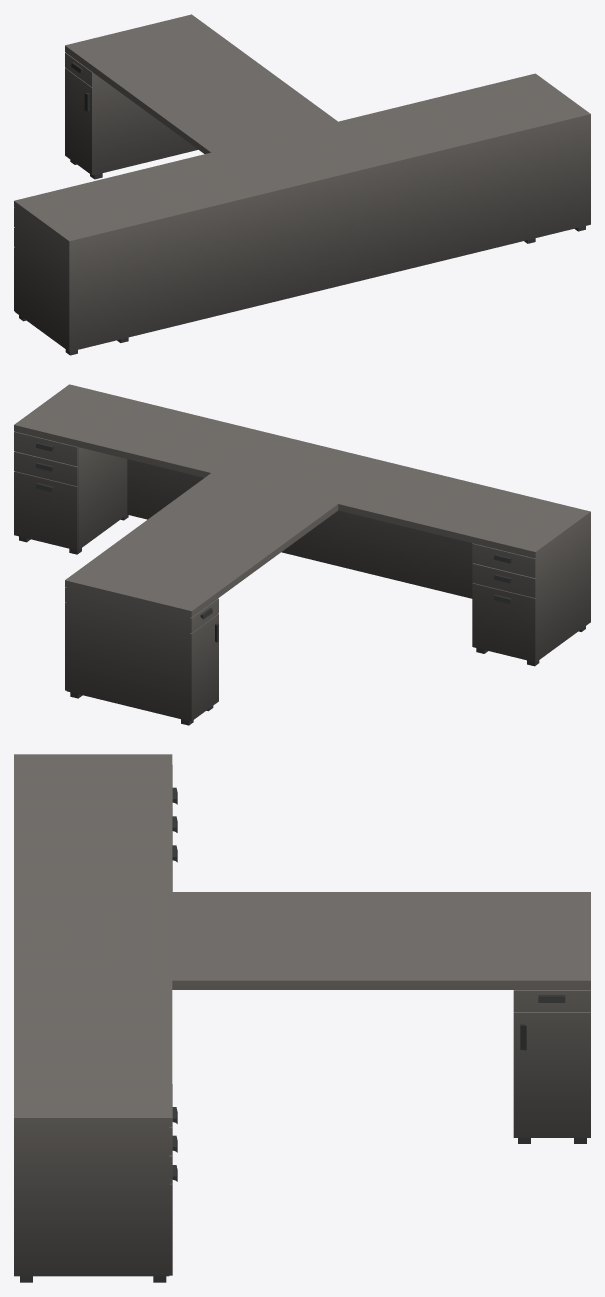
File: Desk_Joined_A.fbx
The picture shows the model from 3 angles, top to bottom: view 1: azimuth 30°, elevation 25°; view 2: azimuth 150°, elevation 25°; view 3: azimuth 270°, elevation 25°; orthographic projection. The views are drawn at different scales.
Visible parts, largest first — view 1: Desk_Joined_A; view 2: Desk_Joined_A; view 3: Desk_Joined_A.
Part boxes in pixels (x1=…): Desk_Joined_A: x1=14, y1=14, x2=590, y2=355; Desk_Joined_A: x1=14, y1=384, x2=590, y2=725; Desk_Joined_A: x1=14, y1=754, x2=590, y2=1282.
Bounding box in the file's own units: 328 × 70 × 220.
